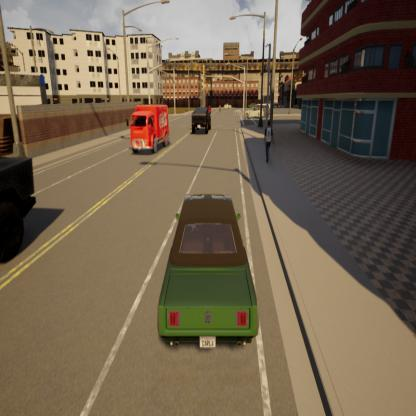Cars: (148, 183, 263, 361), (0, 147, 42, 270), (126, 100, 172, 158), (189, 103, 214, 137), (244, 102, 265, 120), (223, 102, 233, 112)
Pedestrian: (260, 117, 276, 172)
